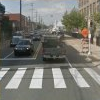crosswalk: (0, 67, 99, 89)
